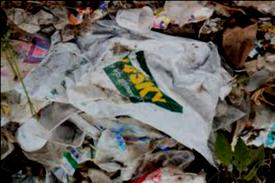Plastic: (92, 105, 128, 169), (12, 112, 52, 154), (111, 2, 156, 29)
